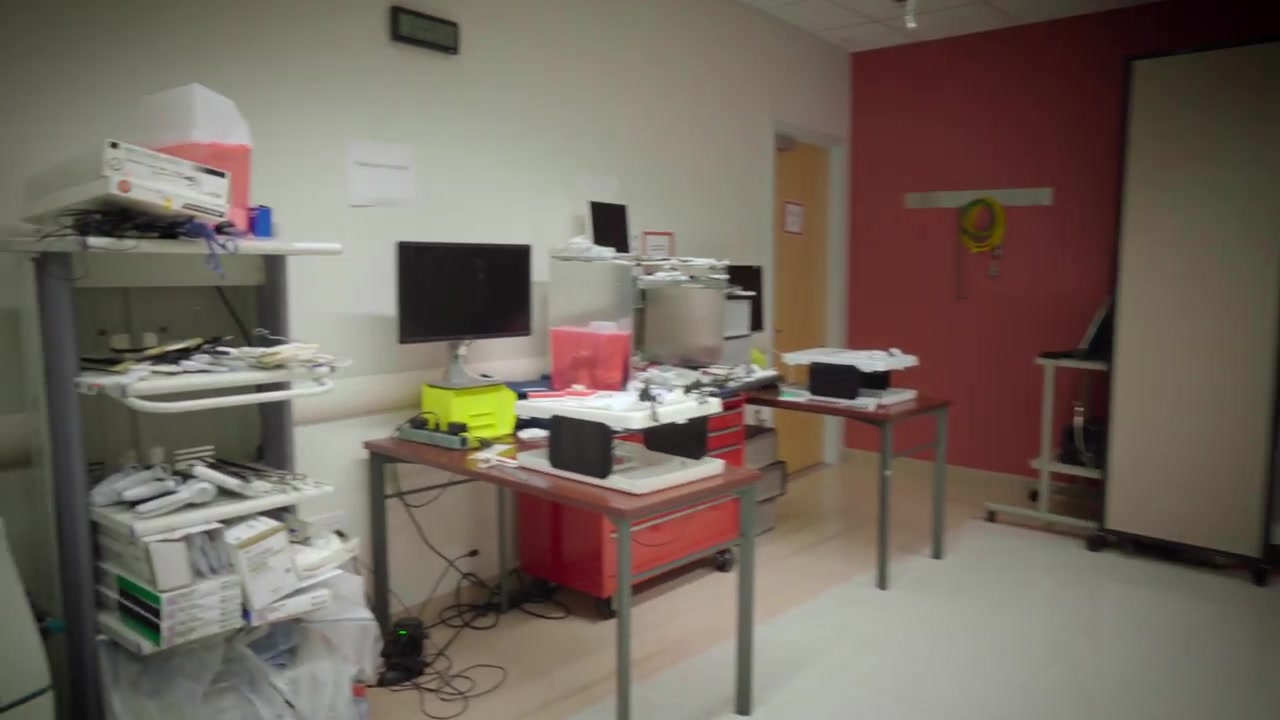computer: (394, 240, 532, 390), (716, 258, 768, 331), (588, 200, 637, 256)
medical_drawer: (509, 382, 756, 621)
table: (361, 433, 762, 720), (741, 378, 953, 591)
utility_cart: (984, 344, 1115, 543)
